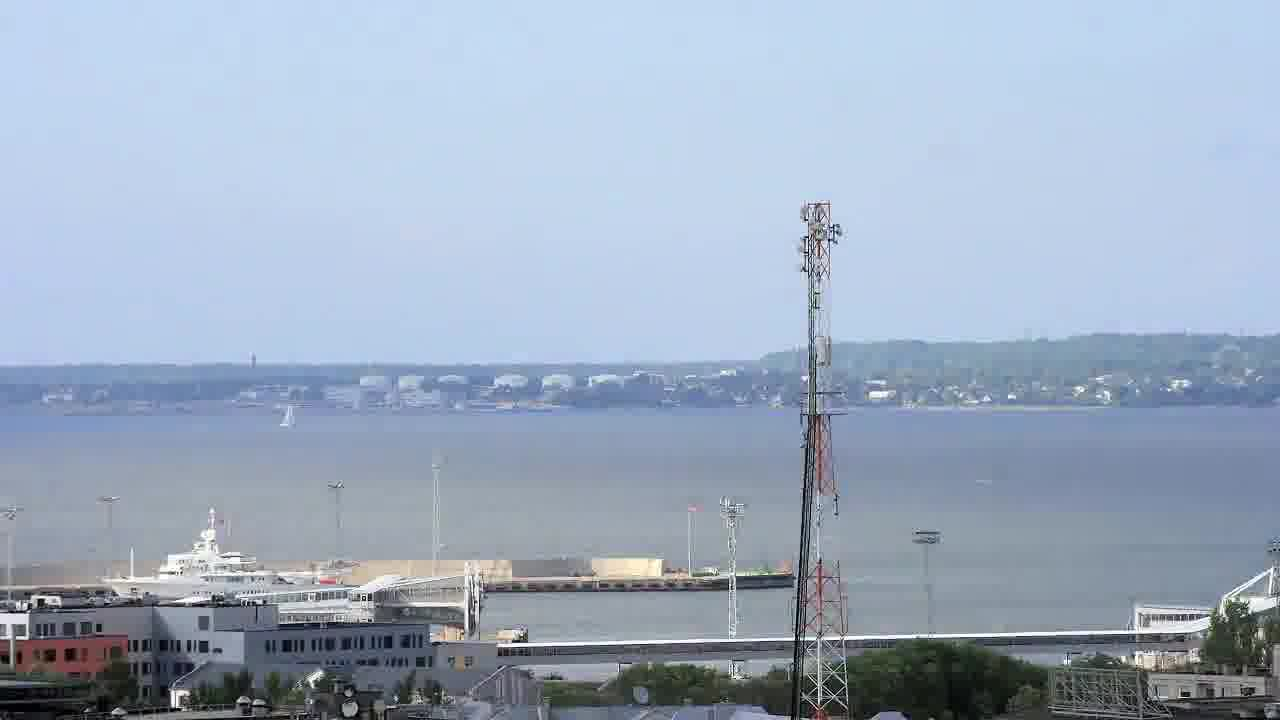type-2: (262, 383, 313, 445)
type-3: (88, 507, 346, 605)
